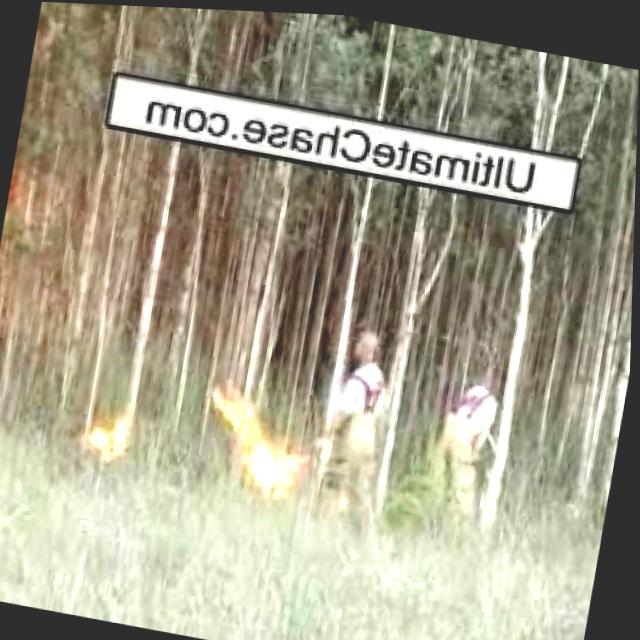Fire: (181, 350, 329, 504), (70, 395, 150, 470)
